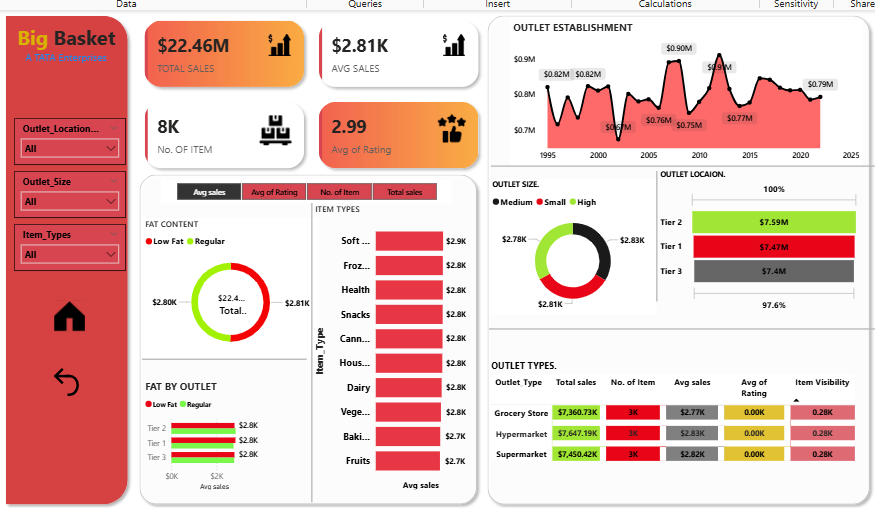

Layout of this report page (visuals, bound fields, positions):
{"tool":"powerbi","page":{"name":"Page 1","canvas":[1400,800],"ordinal":0},"visuals":[{"type":"shape","box":[0,0,213.3,800],"z":0},{"type":"textbox","box":[22.4,16,204.8,86.4],"z":1000},{"type":"textbox","box":[452.8,0,12.8,750.4],"z":2000},{"type":"textbox","box":[35.2,59.2,150.4,81.6],"z":3000},{"type":"cardVisual","fields":{"Data":["BigBasket_Sales_Data.Total sales","BigBasket_Sales_Data.Avg sales","BigBasket_Sales_Data.No. of Item","BigBasket_Sales_Data.Avg of Rating"]},"box":[214.4,0,569.6,270.4],"z":4000},{"type":"shape","box":[213.7,254.7,557.3,545.3],"z":5000},{"type":"donutChart","title":"FAT CONTENT","fields":{"Y":["BigBasket_Sales_Data.Avg sales"],"Category":["BigBasket_Sales_Data.Item_Fat_Content"]},"box":[227.4,333.3,283.8,223.9],"z":6000},{"type":"slicer","fields":{"Values":["Metrics.Metrics"]},"box":[258.1,270.1,465,39.3],"z":7000},{"type":"cardVisual","fields":{"Data":["BigBasket_Sales_Data.Total sales"]},"box":[326.5,435.9,85.5,61.5],"z":8000},{"type":"clusteredBarChart","title":"FAT BY OUTLET","fields":{"Category":["BigBasket_Sales_Data.Outlet_Location_Type"],"Y":["BigBasket_Sales_Data.Avg sales"],"Series":["BigBasket_Sales_Data.Item_Fat_Content"]},"box":[227.2,590.4,200,182.4],"z":9000},{"type":"shape","box":[227.4,514.5,263.2,87.2],"z":10000},{"type":"shape","box":[389.7,309.4,217.1,478.6],"z":11000},{"type":"barChart","title":"ITEM TYPES","fields":{"Y":["BigBasket_Sales_Data.Avg sales"],"Category":["BigBasket_Sales_Data.Item_Type"]},"box":[499.1,309.4,251.3,463.2],"z":12000},{"type":"shape","box":[770.9,0,629.1,800],"z":13000},{"type":"lineChart","title":"OUTLET ESTABLISHMENT","fields":{"Y":["BigBasket_Sales_Data.Total sales"],"Category":["BigBasket_Sales_Data.Outlet_Establishment_Year"]},"box":[815.4,15.4,564.1,234.2],"z":14000},{"type":"donutChart","title":"OUTLET SIZE.","fields":{"Y":["BigBasket_Sales_Data.Avg sales"],"Category":["BigBasket_Sales_Data.Outlet_Size","BigBasket_Sales_Data.Item_Fat_Content"]},"box":[782.9,270.1,268.4,217.1],"z":15000},{"type":"shape","box":[786.3,210.3,613.7,80.3],"z":16000},{"type":"shape","box":[941.9,258.1,217.1,208.5],"z":17000},{"type":"funnel","title":"OUTLET LOCAION.","fields":{"Y":["Sum(BigBasket_Sales_Data.Sales)"],"Category":["BigBasket_Sales_Data.Outlet_Location_Type"]},"box":[1051.3,254.7,328.2,232.5],"z":18000},{"type":"shape","box":[782.9,487.2,617.1,47.9],"z":19000},{"type":"pivotTable","title":"OUTLET TYPES.","fields":{"Rows":["BigBasket_Sales_Data.Outlet_Type"],"Values":["BigBasket_Sales_Data.Total sales","BigBasket_Sales_Data.No. of Item","BigBasket_Sales_Data.Avg sales","BigBasket_Sales_Data.Avg of Rating","Sum(BigBasket_Sales_Data.Item_Visibility)"]},"box":[781.2,559,608.5,191.5],"z":20000},{"type":"slicer","fields":{"Values":["BigBasket_Sales_Data.Outlet_Location_Type"]},"box":[22.2,172.6,179.5,75.2],"z":21000},{"type":"slicer","fields":{"Values":["BigBasket_Sales_Data.Outlet_Size"]},"box":[22.2,258.1,179.5,75.2],"z":22000},{"type":"slicer","fields":{"Values":["BigBasket_Sales_Data.Item_Type"]},"box":[22.2,341.9,179.5,75.2],"z":23000},{"type":"actionButton","box":[60.8,422.4,100.8,136],"z":24000},{"type":"actionButton","box":[56,561.6,100.8,67.2],"z":25000}]}

Visuals, with their boxes on the page's 1400x800 design canvas (x1, y1, x2, y2). These are canvas units, not pixel positions in the 875x508 screenshot, which may show the page scaled, cropped or inside an application window:
shape: detection(0, 0, 213, 800)
textbox: detection(22, 16, 227, 102)
textbox: detection(453, 0, 466, 750)
textbox: detection(35, 59, 186, 141)
cardVisual - BigBasket_Sales_Data.Total sales x BigBasket_Sales_Data.Avg sales: detection(214, 0, 784, 270)
shape: detection(214, 255, 771, 800)
"FAT CONTENT" donutChart: detection(227, 333, 511, 557)
slicer - Metrics.Metrics: detection(258, 270, 723, 309)
cardVisual - BigBasket_Sales_Data.Total sales: detection(326, 436, 412, 497)
"FAT BY OUTLET" clusteredBarChart: detection(227, 590, 427, 773)
shape: detection(227, 514, 491, 602)
shape: detection(390, 309, 607, 788)
"ITEM TYPES" barChart: detection(499, 309, 750, 773)
shape: detection(771, 0, 1400, 800)
"OUTLET ESTABLISHMENT" lineChart: detection(815, 15, 1380, 250)
"OUTLET SIZE." donutChart: detection(783, 270, 1051, 487)
shape: detection(786, 210, 1400, 291)
shape: detection(942, 258, 1159, 467)
"OUTLET LOCAION." funnel: detection(1051, 255, 1380, 487)
shape: detection(783, 487, 1400, 535)
"OUTLET TYPES." pivotTable: detection(781, 559, 1390, 750)
slicer - BigBasket_Sales_Data.Outlet_Location_Type: detection(22, 173, 202, 248)
slicer - BigBasket_Sales_Data.Outlet_Size: detection(22, 258, 202, 333)
slicer - BigBasket_Sales_Data.Item_Type: detection(22, 342, 202, 417)
actionButton: detection(61, 422, 162, 558)
actionButton: detection(56, 562, 157, 629)
